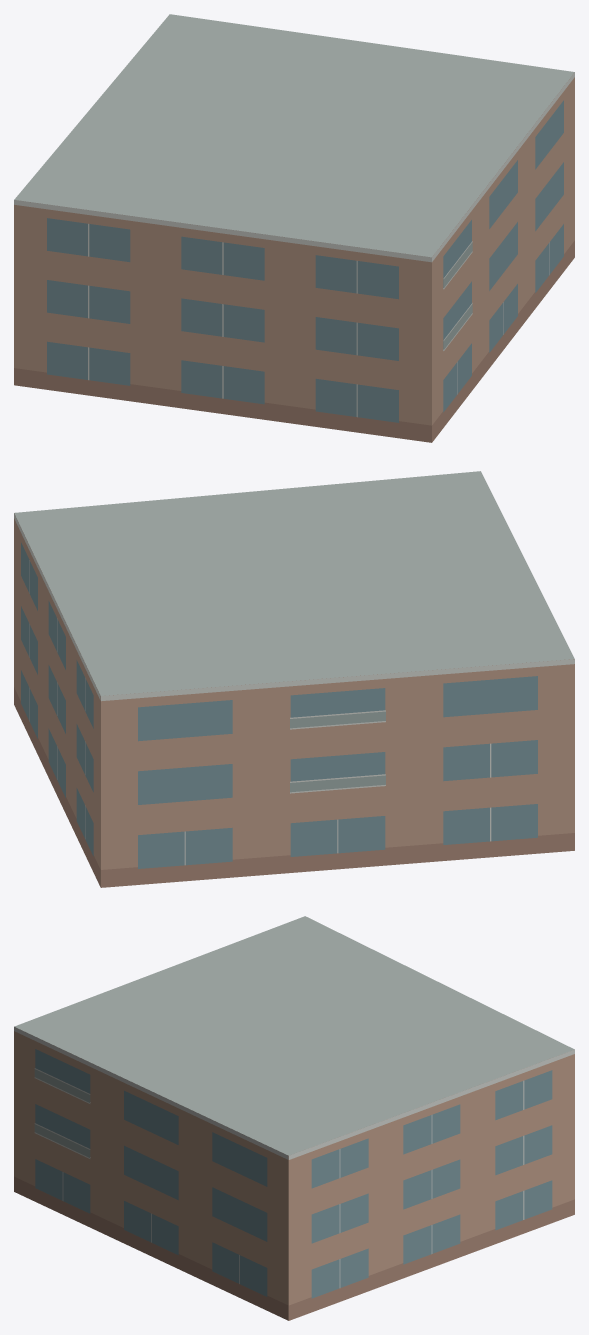
File: survey-upis-32857334.glb
The picture shows the model from 3 angles, top to bottom: view 1: azimuth 30°, elevation 25°; view 2: azimuth 150°, elevation 25°; view 3: azimuth 270°, elevation 25°; orthographic projection. The views are drawn at different scales.
Visible parts, largest first — view 1: survey-upis-32857334.tmp; view 2: survey-upis-32857334.tmp; view 3: survey-upis-32857334.tmp.
Boxes of the visible parts, bbox=[...] form: survey-upis-32857334.tmp: bbox=[14, 14, 574, 442]; survey-upis-32857334.tmp: bbox=[14, 471, 574, 887]; survey-upis-32857334.tmp: bbox=[14, 916, 574, 1320].
Bounding box in the file's own units: 28.49 × 9.15 × 28.17.
